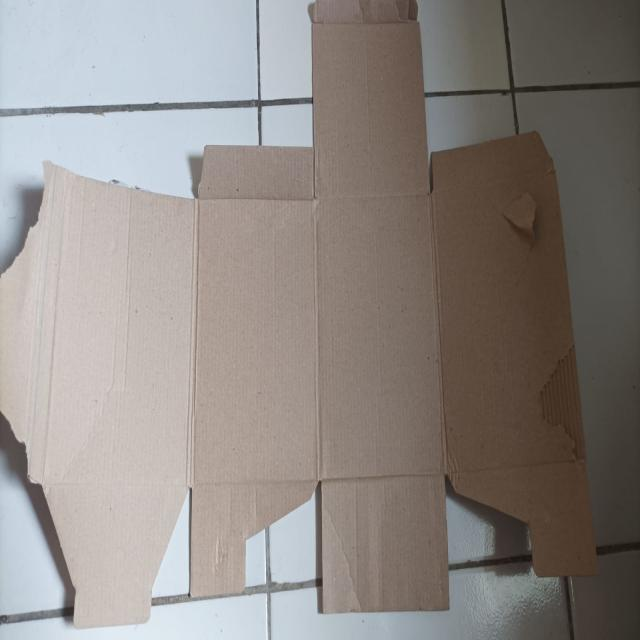Organik: (6, 0, 622, 640)
